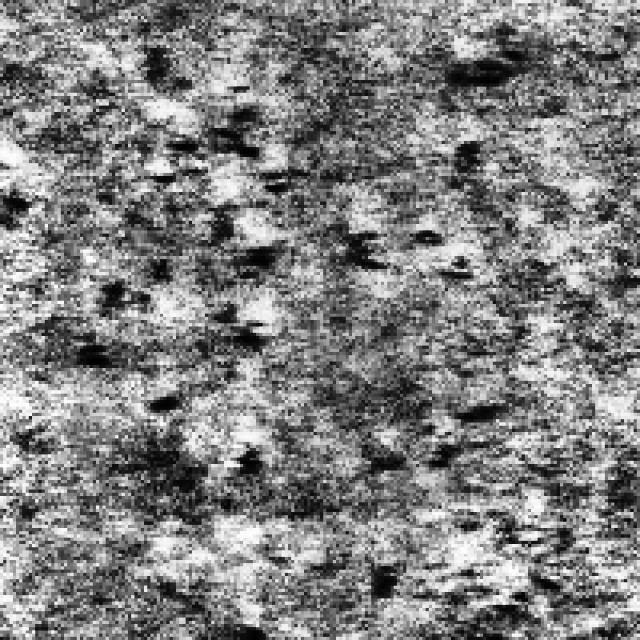Crazing: (195, 96, 499, 410), (77, 42, 310, 444), (342, 492, 634, 630)
